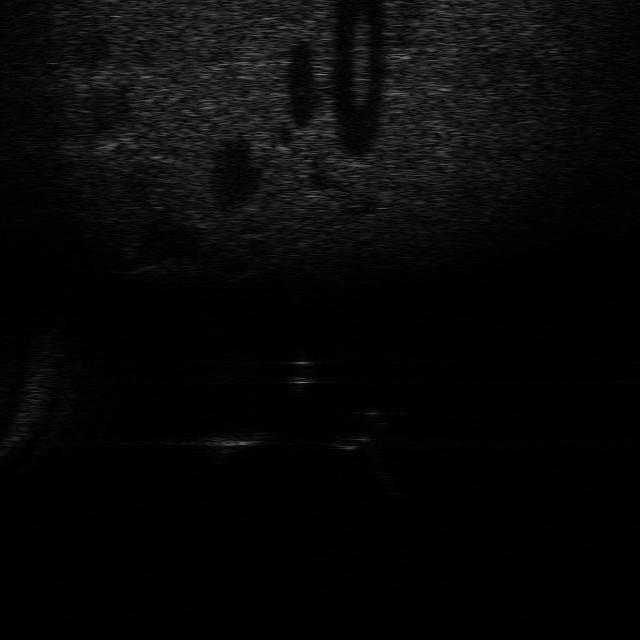ball: (280, 353, 324, 397)
square cage: (178, 423, 278, 462)
tyre: (325, 406, 389, 452)
